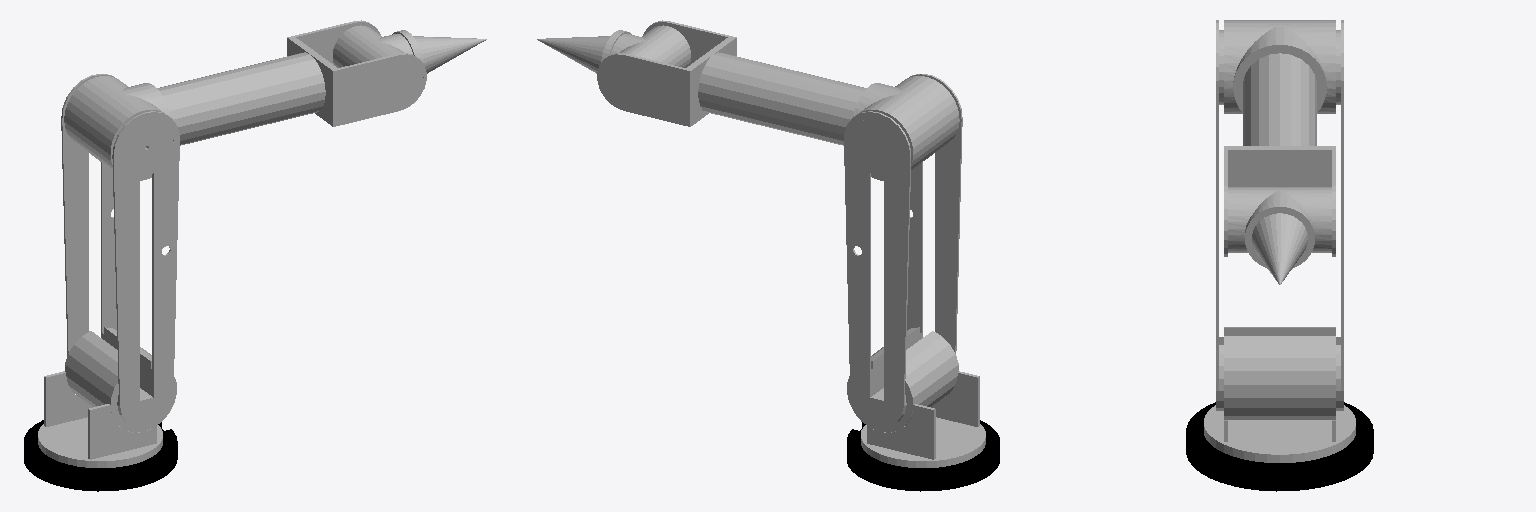
URDF robot description (snowbots_arm_urdf_simplified_v5_12):
<?xml version="1.0" encoding="utf-8" ?>
<!-- This URDF was automatically created by SolidWorks to URDF Exporter! Originally created by [author] ([email redacted]) 
     Commit Version: 1.6.0-4-g7f85cfe  Build Version: 1.6.7995.38578
     For more information, please see http://wiki.ros.org/sw_urdf_exporter -->
<robot name="snowbots_arm_urdf_simplified_v5_12">
<link name="world">
        <visual>
            <origin xyz="0 0 0" rpy="0 0 0" />
            <geometry>
                <mesh filename="package://snowbots_arm_urdf_simplified_v5_12/meshes/l1.STL" />
            </geometry>
            <material name="">
                <color rgba="0 0 0 1" />
            </material>
        </visual>
    </link>
     <joint name="fixer" type="fixed">
        <origin xyz="0 0 0" rpy="0 0 0" />
        <parent link="world" />
        <child link="l1" />
        <axis xyz="0 0 0" />
    </joint>
    <link name="l1">
        <inertial>
            <origin xyz="-0.168479827162396 -0.115656336839165 0.00578093326197773" rpy="0 0 0" />
            <mass value="0.733491685538154" />
            <inertia ixx="0.00196115627924208" ixy="-4.46821490532512E-20" ixz="9.15645494285907E-06" iyy="0.001877726034367" iyz="-2.9985437698021E-20" izz="0.00376586973501081" />
        </inertial>
        <visual>
            <origin xyz="0 0 0" rpy="0 0 0" />
            <geometry>
                <mesh filename="package://snowbots_arm_urdf_simplified_v5_12/meshes/l1.STL" />
            </geometry>
            <material name="">
                <color rgba="0.752941176470588 0.752941176470588 0.752941176470588 1" />
            </material>
        </visual>
        <collision>
            <origin xyz="0 0 0" rpy="0 0 0" />
            <geometry>
                <mesh filename="package://snowbots_arm_urdf_simplified_v5_12/meshes/l1.STL" />
            </geometry>
        </collision>
    </link>
    <link name="l2">
        <inertial>
            <origin xyz="-0.00223967300075031 -1.38777878078145E-17 0.0102631542786473" rpy="0 0 0" />
            <mass value="0.250775647780571" />
            <inertia ixx="0.000537910808454074" ixy="7.38589996174416E-20" ixz="2.58073706594528E-05" iyy="0.000436108333138116" iyz="-2.41807862734038E-20" izz="0.000869807679942593" />
        </inertial>
        <visual>
            <origin xyz="0 0 0" rpy="0 0 0" />
            <geometry>
                <mesh filename="package://snowbots_arm_urdf_simplified_v5_12/meshes/l2.STL" />
            </geometry>
            <material name="">
                <color rgba="0.752941176470588 0.752941176470588 0.752941176470588 1" />
            </material>
        </visual>
        <collision>
            <origin xyz="0 0 0" rpy="0 0 0" />
            <geometry>
                <mesh filename="package://snowbots_arm_urdf_simplified_v5_12/meshes/l2.STL" />
            </geometry>
        </collision>
    </link>
    <joint name="j1" type="continuous">
        <origin xyz="-0.16681 -0.11566 0.018262" rpy="0 0 0" />
        <parent link="l1" />
        <child link="l2" />
        <axis xyz="0 0 1" />
    </joint>
    <link name="l3">
        <inertial>
            <origin xyz="4.40423545552959E-05 0.0239245727073928 4.16333634234434E-17" rpy="0 0 0" />
            <mass value="1.02884531575438" />
            <inertia ixx="0.00879556882291034" ixy="-8.93852366892045E-06" ixz="-1.19316316259719E-19" iyy="0.00261900523250968" iyz="-5.34730066793665E-18" izz="0.00766388032777999" />
        </inertial>
        <visual>
            <origin xyz="0 0 0" rpy="0 0 0" />
            <geometry>
                <mesh filename="package://snowbots_arm_urdf_simplified_v5_12/meshes/l3.STL" />
            </geometry>
            <material name="">
                <color rgba="0.752941176470588 0.752941176470588 0.752941176470588 1" />
            </material>
        </visual>
        <collision>
            <origin xyz="0 0 0" rpy="0 0 0" />
            <geometry>
                <mesh filename="package://snowbots_arm_urdf_simplified_v5_12/meshes/l3.STL" />
            </geometry>
        </collision>
    </link>
    <joint name="j2" type="continuous">
        <origin xyz="0.03025 0 0.08135" rpy="1.5708 0 3.1416" />
        <parent link="l2" />
        <child link="l3" />
        <axis xyz="0 0 1" />
    </joint>
    <link name="l4">
        <inertial>
            <origin xyz="0.00226816102522268 8.1886690761479E-09 1.65251658703902E-05" rpy="0 0 0" />
            <mass value="1.08198232148716" />
            <inertia ixx="0.0021829023488644" ixy="-1.01373372274236E-09" ixz="4.05545769876673E-08" iyy="0.00220354743226762" iyz="1.08123755507794E-09" izz="0.00142067321575571" />
        </inertial>
        <visual>
            <origin xyz="0 0 0" rpy="0 0 0" />
            <geometry>
                <mesh filename="package://snowbots_arm_urdf_simplified_v5_12/meshes/l4.STL" />
            </geometry>
            <material name="">
                <color rgba="0.752941176470588 0.752941176470588 0.752941176470588 1" />
            </material>
        </visual>
        <collision>
            <origin xyz="0 0 0" rpy="0 0 0" />
            <geometry>
                <mesh filename="package://snowbots_arm_urdf_simplified_v5_12/meshes/l4.STL" />
            </geometry>
        </collision>
    </link>
    <joint name="j3" type="continuous">
        <origin xyz="0 0.36 0" rpy="0 0 3.1416" />
        <parent link="l3" />
        <child link="l4" />
        <axis xyz="0 0 -1" />
    </joint>
    <link name="l5">
        <inertial>
            <origin xyz="-2.77555756156289E-16 1.38777878078145E-17 -0.133249135431632" rpy="0 0 0" />
            <mass value="1.33086052072626" />
            <inertia ixx="0.00895840763765954" ixy="7.01367211253052E-20" ixz="-1.32455397339338E-17" iyy="0.00873704695466796" iyz="1.94062575221042E-19" izz="0.00133806494519881" />
        </inertial>
        <visual>
            <origin xyz="0 0 0" rpy="0 0 0" />
            <geometry>
                <mesh filename="package://snowbots_arm_urdf_simplified_v5_12/meshes/l5.STL" />
            </geometry>
            <material name="">
                <color rgba="0.752941176470588 0.752941176470588 0.752941176470588 1" />
            </material>
        </visual>
        <collision>
            <origin xyz="0 0 0" rpy="0 0 0" />
            <geometry>
                <mesh filename="package://snowbots_arm_urdf_simplified_v5_12/meshes/l5.STL" />
            </geometry>
        </collision>
    </link>
    <joint name="j4" type="continuous">
        <origin xyz="0.05 0 0" rpy="-1.5708 0 1.5708" />
        <parent link="l4" />
        <child link="l5" />
        <axis xyz="0 0 -1" />
    </joint>
    <link name="l6">
        <inertial>
            <origin xyz="0.00199123381435215 -4.16333634234434E-17 1.36247749749074E-07" rpy="0 0 0" />
            <mass value="0.492952229102601" />
            <inertia ixx="0.000719349317967228" ixy="-3.09499030960209E-20" ixz="7.74229887926325E-12" iyy="0.000329383302634573" iyz="-3.29293443660839E-12" izz="0.000732786626667122" />
        </inertial>
        <visual>
            <origin xyz="0 0 0" rpy="0 0 0" />
            <geometry>
                <mesh filename="package://snowbots_arm_urdf_simplified_v5_12/meshes/l6.STL" />
            </geometry>
            <material name="">
                <color rgba="0.752941176470588 0.752941176470588 0.752941176470588 1" />
            </material>
        </visual>
        <collision>
            <origin xyz="0 0 0" rpy="0 0 0" />
            <geometry>
                <mesh filename="package://snowbots_arm_urdf_simplified_v5_12/meshes/l6.STL" />
            </geometry>
        </collision>
    </link>
    <joint name="j5" type="continuous">
        <origin xyz="0 0 -0.334" rpy="3.1416 1.5708 0" />
        <parent link="l5" />
        <child link="l6" />
        <axis xyz="0 1 0" />
    </joint>
    <link name="l7">
        <inertial>
            <origin xyz="-5.55111512312578E-17 0.00266488951978006 0.005" rpy="0 0 0" />
            <mass value="0.0374663749693614" />
            <inertia ixx="1.29723066499449E-05" ixy="-9.87932207759026E-22" ixz="-5.75656326040793E-22" iyy="1.57184875775034E-05" iyz="2.28507040319312E-21" izz="2.80663546446257E-05" />
        </inertial>
        <visual>
            <origin xyz="0 0 0" rpy="0 0 0" />
            <geometry>
                <mesh filename="package://snowbots_arm_urdf_simplified_v5_12/meshes/l7.STL" />
            </geometry>
            <material name="">
                <color rgba="0.752941176470588 0.752941176470588 0.752941176470588 1" />
            </material>
        </visual>
        <collision>
            <origin xyz="0 0 0" rpy="0 0 0" />
            <geometry>
                <mesh filename="package://snowbots_arm_urdf_simplified_v5_12/meshes/l7.STL" />
            </geometry>
        </collision>
    </link>
    <joint name="j6" type="continuous">
        <origin xyz="0.0378 0 0" rpy="1.5708 0 1.5708" />
        <parent link="l6" />
        <child link="l7" />
        <axis xyz="0 0 1" />
    </joint>
    <link name="ef">
        <inertial>
            <origin xyz="-2.77555756156289E-17 -5.55111512312578E-17 -0.0898279852825325" rpy="0 0 0" />
            <mass value="0.11427222801809" />
            <inertia ixx="7.71894569292431E-05" ixy="-1.34431161567347E-23" ixz="6.12029386300329E-22" iyy="7.71894569292431E-05" iyz="-7.75448771292539E-21" izz="3.03303765648842E-05" />
        </inertial>
        <visual>
            <origin xyz="0 0 0" rpy="0 0 0" />
            <geometry>
                <mesh filename="package://snowbots_arm_urdf_simplified_v5_12/meshes/ef.STL" />
            </geometry>
            <material name="">
                <color rgba="0.752941176470588 0.752941176470588 0.752941176470588 1" />
            </material>
        </visual>
        <collision>
            <origin xyz="0 0 0" rpy="0 0 0" />
            <geometry>
                <mesh filename="package://snowbots_arm_urdf_simplified_v5_12/meshes/ef.STL" />
            </geometry>
        </collision>
    </link>
    <joint name="j7" type="fixed">
        <origin xyz="0 0 0.12886" rpy="0 0 3.1416" />
        <parent link="l7" />
        <child link="ef" />
        <axis xyz="0 0 0" />
    </joint>
    <transmission name="trans_j1">
        <type>transmission_interface/SimpleTransmission</type>
        <joint name="j1">
            <hardwareInterface>hardware_interface/PositionJointInterface</hardwareInterface>
        </joint>
        <actuator name="j1_motor">
            <hardwareInterface>hardware_interface/PositionJointInterface</hardwareInterface>
            <mechanicalReduction>1</mechanicalReduction>
        </actuator>
    </transmission>
    <transmission name="trans_j2">
        <type>transmission_interface/SimpleTransmission</type>
        <joint name="j2">
            <hardwareInterface>hardware_interface/PositionJointInterface</hardwareInterface>
        </joint>
        <actuator name="j2_motor">
            <hardwareInterface>hardware_interface/PositionJointInterface</hardwareInterface>
            <mechanicalReduction>1</mechanicalReduction>
        </actuator>
    </transmission>
    <transmission name="trans_j3">
        <type>transmission_interface/SimpleTransmission</type>
        <joint name="j3">
            <hardwareInterface>hardware_interface/PositionJointInterface</hardwareInterface>
        </joint>
        <actuator name="j3_motor">
            <hardwareInterface>hardware_interface/PositionJointInterface</hardwareInterface>
            <mechanicalReduction>1</mechanicalReduction>
        </actuator>
    </transmission>
    <transmission name="trans_j4">
        <type>transmission_interface/SimpleTransmission</type>
        <joint name="j4">
            <hardwareInterface>hardware_interface/PositionJointInterface</hardwareInterface>
        </joint>
        <actuator name="j4_motor">
            <hardwareInterface>hardware_interface/PositionJointInterface</hardwareInterface>
            <mechanicalReduction>1</mechanicalReduction>
        </actuator>
    </transmission>
    <transmission name="trans_j5">
        <type>transmission_interface/SimpleTransmission</type>
        <joint name="j5">
            <hardwareInterface>hardware_interface/PositionJointInterface</hardwareInterface>
        </joint>
        <actuator name="j5_motor">
            <hardwareInterface>hardware_interface/PositionJointInterface</hardwareInterface>
            <mechanicalReduction>1</mechanicalReduction>
        </actuator>
    </transmission>
    <transmission name="trans_j6">
        <type>transmission_interface/SimpleTransmission</type>
        <joint name="j6">
            <hardwareInterface>hardware_interface/PositionJointInterface</hardwareInterface>
        </joint>
        <actuator name="j6_motor">
            <hardwareInterface>hardware_interface/PositionJointInterface</hardwareInterface>
            <mechanicalReduction>1</mechanicalReduction>
        </actuator>
    </transmission>
    <gazebo>
        <plugin name="gazebo_ros_control">
            <robotNamespace>/</robotNamespace>
        </plugin>
    </gazebo>
</robot>

--- Facts derived from the render (not from the file) ---
The picture shows the robot from 3 angles, left to right: view 1: azimuth 30°, elevation 25°; view 2: azimuth 150°, elevation 25°; view 3: azimuth 270°, elevation 25°; orthographic projection.
Model snowbots_arm_urdf_simplified_v5_12 with 9 links and 8 joints (6 continuous, 2 fixed), rooted at world, posed every joint at zero.
Visible links, largest first — view 1: l3, l5, l4, l2, world, l6, ef; view 2: l3, l5, l4, l2, world, l6, ef; view 3: l3, l5, l4, world, l2, l6, ef, l7.
Link boxes in pixels (x1=…): l3: x1=61, y1=74, x2=179, y2=432; l5: x1=157, y1=20, x2=426, y2=145; l4: x1=64, y1=76, x2=172, y2=180; l2: x1=38, y1=371, x2=162, y2=467; world: x1=24, y1=420, x2=177, y2=491; l6: x1=333, y1=25, x2=422, y2=107; ef: x1=413, y1=36, x2=486, y2=73; l3: x1=844, y1=74, x2=962, y2=432; l5: x1=597, y1=20, x2=866, y2=145; l4: x1=850, y1=76, x2=959, y2=180; l2: x1=861, y1=371, x2=985, y2=467; world: x1=847, y1=420, x2=999, y2=491; l6: x1=600, y1=25, x2=690, y2=107; ef: x1=537, y1=36, x2=610, y2=73; l3: x1=1216, y1=20, x2=1343, y2=419; l5: x1=1224, y1=53, x2=1335, y2=256; l4: x1=1219, y1=20, x2=1340, y2=113; world: x1=1186, y1=402, x2=1373, y2=491; l2: x1=1204, y1=405, x2=1355, y2=462; l6: x1=1228, y1=187, x2=1331, y2=252; ef: x1=1252, y1=213, x2=1307, y2=284; l7: x1=1245, y1=203, x2=1314, y2=268.
Bounding box of the posed robot: 0.6808 × 0.2 × 0.5159 m (x, y, z).
Meshes: 8 distinct files referenced, 9 mesh visuals loaded (8 binary STL).